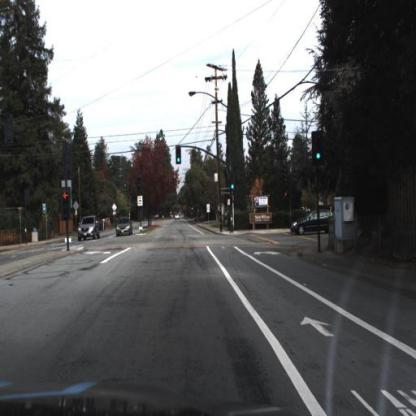car: (291, 204, 337, 242), (289, 210, 339, 235), (77, 213, 104, 245), (76, 215, 101, 239), (114, 215, 134, 239), (116, 215, 134, 235)
trafficLight-Green: (311, 126, 322, 164), (176, 142, 185, 168), (229, 171, 237, 197), (176, 142, 184, 165), (229, 176, 236, 196)
trafficLight-RedLeft: (61, 185, 73, 216)
